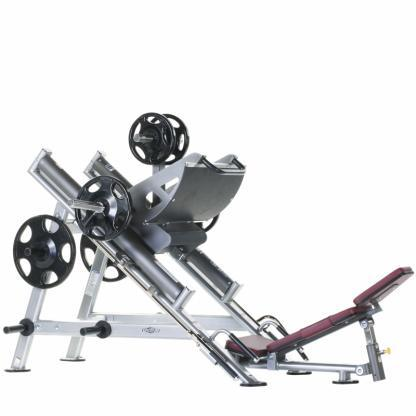leg press: (5, 89, 414, 395)
